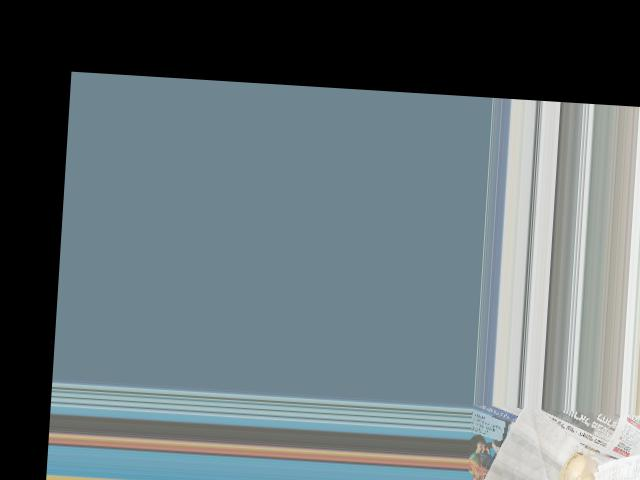onion: (558, 452, 593, 480)
